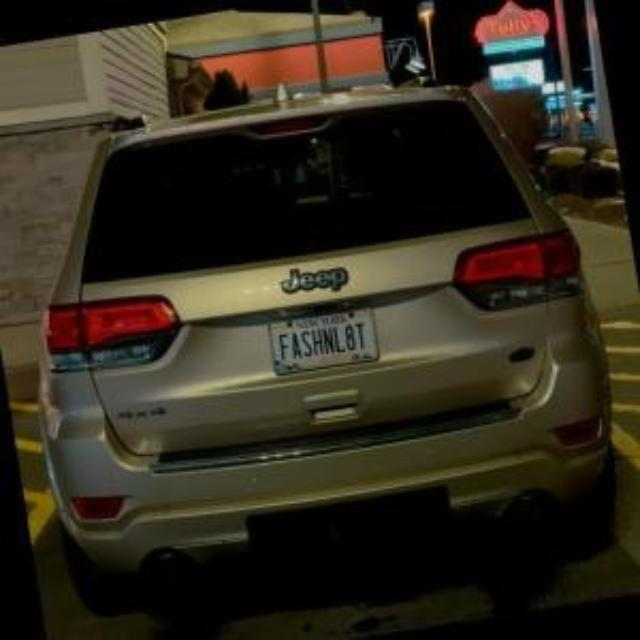License Plate: (265, 305, 380, 376)
